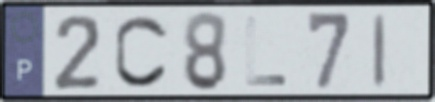2: (51, 11, 106, 92)
7: (305, 9, 354, 92)
8: (179, 9, 230, 94)
C: (112, 12, 171, 90)
I: (371, 11, 389, 90)
L: (244, 14, 289, 88)
